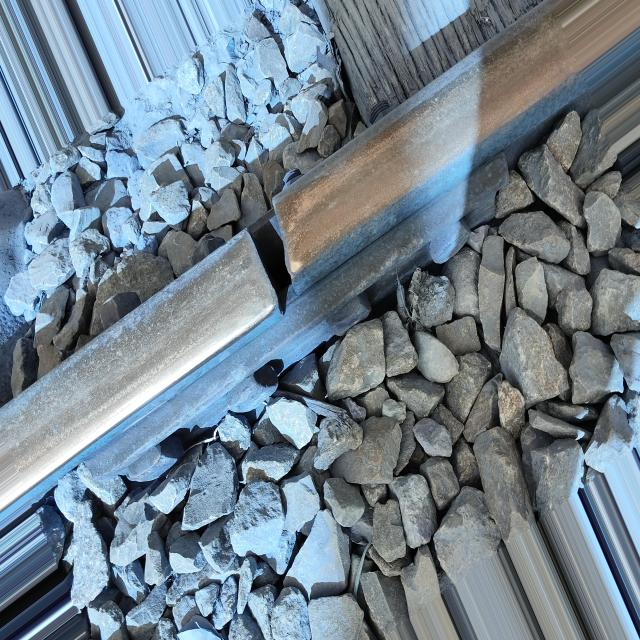crack: (217, 165, 320, 339)
